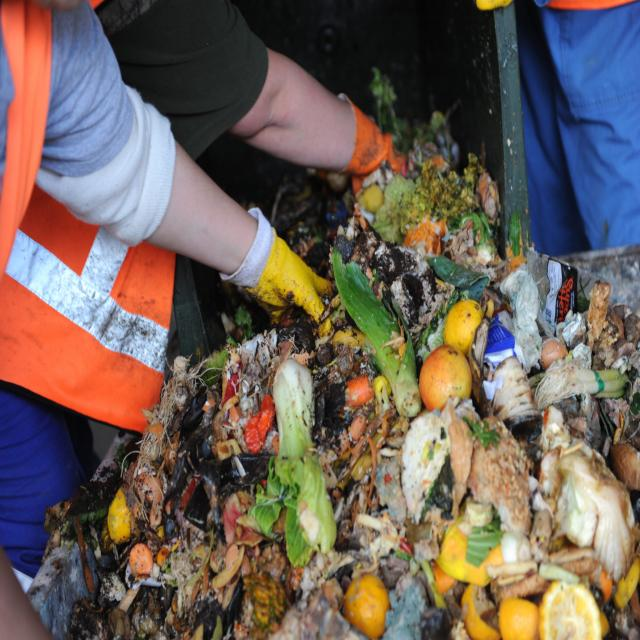food_waste: (234, 361, 622, 605)
